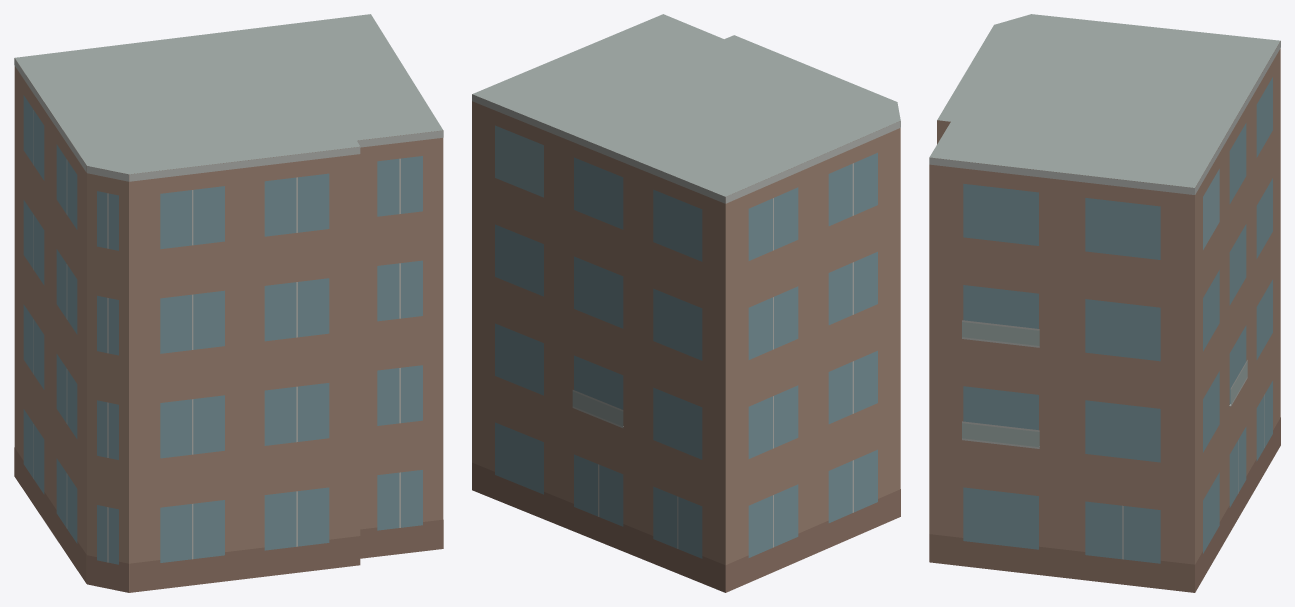
The model's file is survey-upis-32799650.glb.
The picture shows the model from 3 angles, left to right: view 1: azimuth 30°, elevation 25°; view 2: azimuth 150°, elevation 25°; view 3: azimuth 270°, elevation 25°; orthographic projection. The views are drawn at different scales.
Visible parts, largest first — view 1: survey-upis-32799650.tmp; view 2: survey-upis-32799650.tmp; view 3: survey-upis-32799650.tmp.
Boxes of the visible parts, x1,y1,x2,y2 form: survey-upis-32799650.tmp: (14, 14, 443, 592); survey-upis-32799650.tmp: (472, 14, 900, 592); survey-upis-32799650.tmp: (929, 14, 1280, 592).
Bounding box in the file's own units: 12.73 × 13.8 × 10.86.
